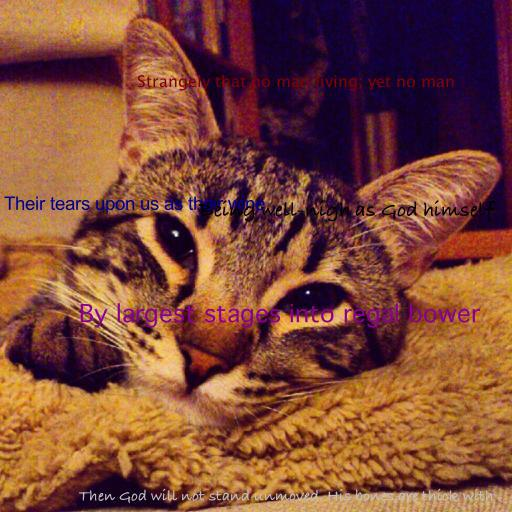Arial: (3, 196, 265, 214)
Bradley Hand: (78, 488, 494, 504), (198, 200, 494, 222)
Geneva: (78, 303, 480, 328)
Lucida Grande: (137, 74, 455, 91)
